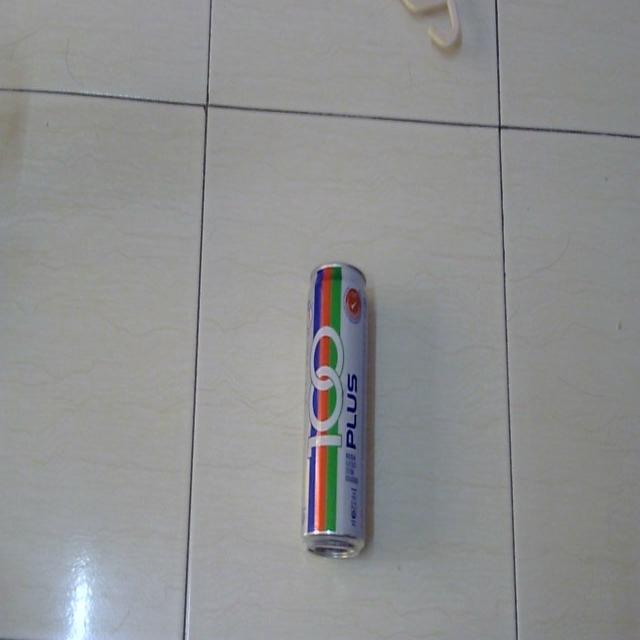metal_laydown_90rotation: (301, 260, 384, 567)
